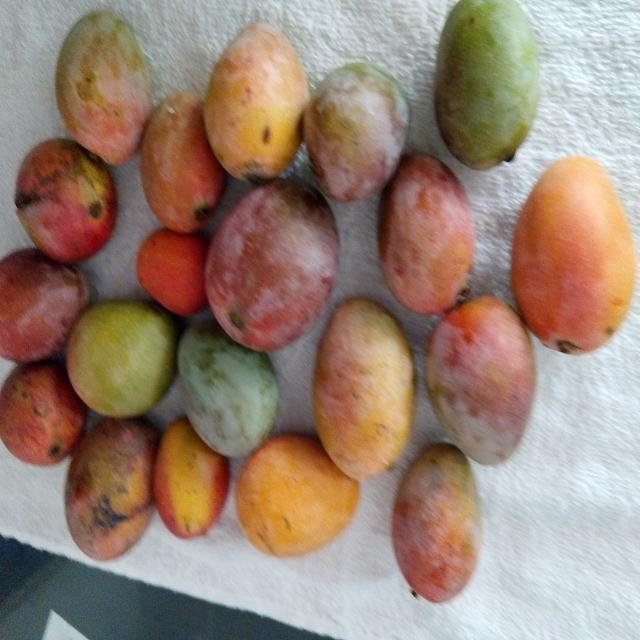mango: (512, 156, 636, 353), (206, 179, 338, 350), (425, 296, 535, 464), (313, 298, 414, 479), (435, 0, 539, 169), (204, 23, 309, 180), (379, 154, 474, 314), (236, 434, 359, 556), (56, 9, 151, 164), (304, 63, 409, 201), (392, 443, 481, 602), (178, 322, 279, 456), (65, 418, 157, 560), (67, 300, 177, 417), (15, 139, 117, 263), (140, 92, 225, 233), (0, 249, 89, 362), (154, 417, 229, 538), (0, 362, 87, 465), (134, 222, 213, 319)
